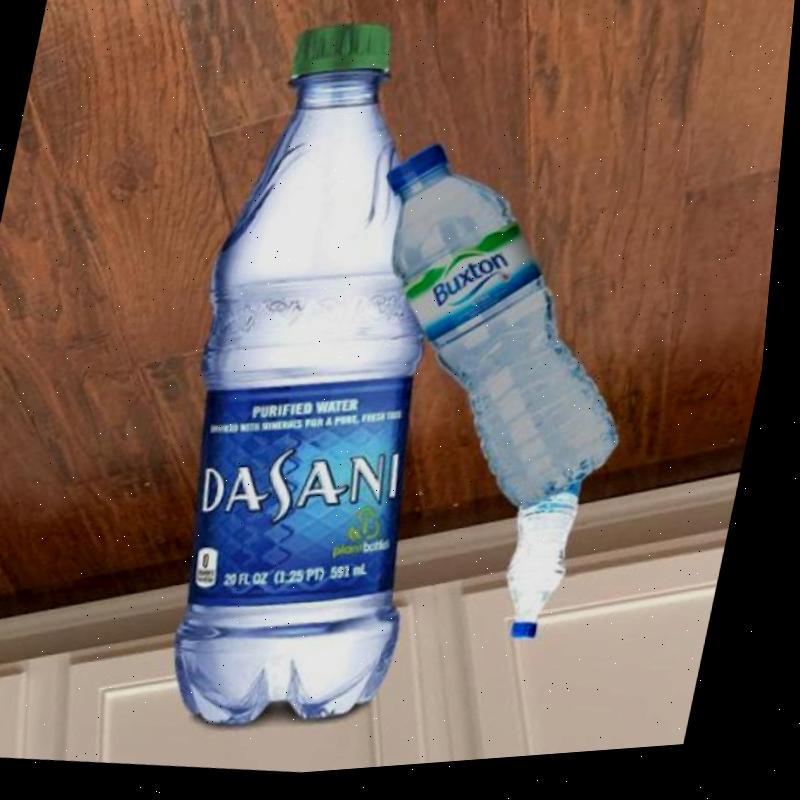botella: (130, 8, 537, 756), (325, 132, 684, 536), (501, 482, 593, 653)
